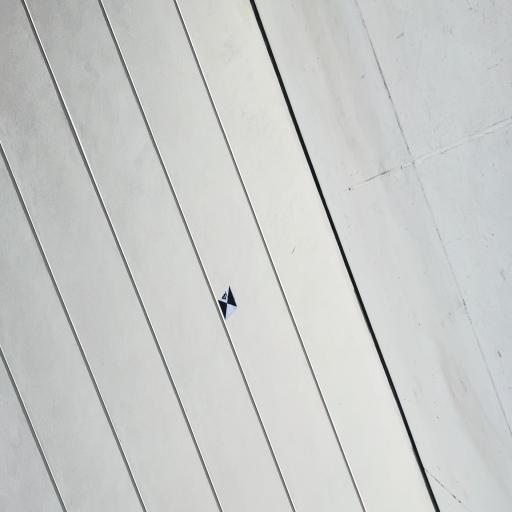target4: (218, 286, 237, 320)
